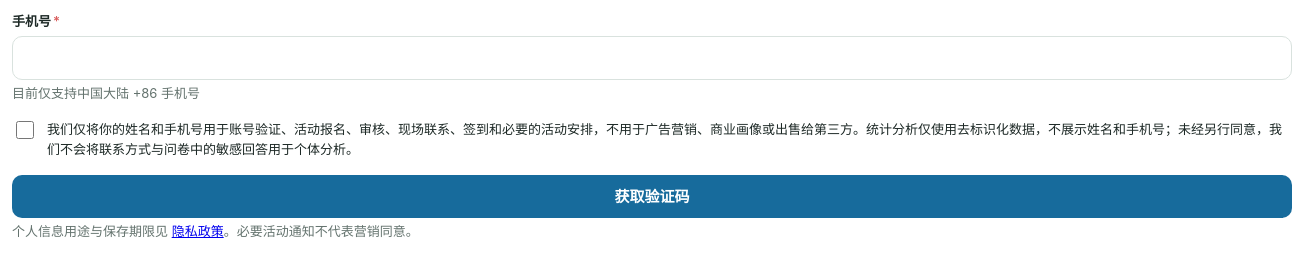
Scenario: PhoneAuthForm 手机号验证码入口 › 未同意隐私说明时不请求验证码
Step 1. Type "13812345678" into the field labelled "手机号*" → x=652, y=58, box [12, 36, 1292, 80]
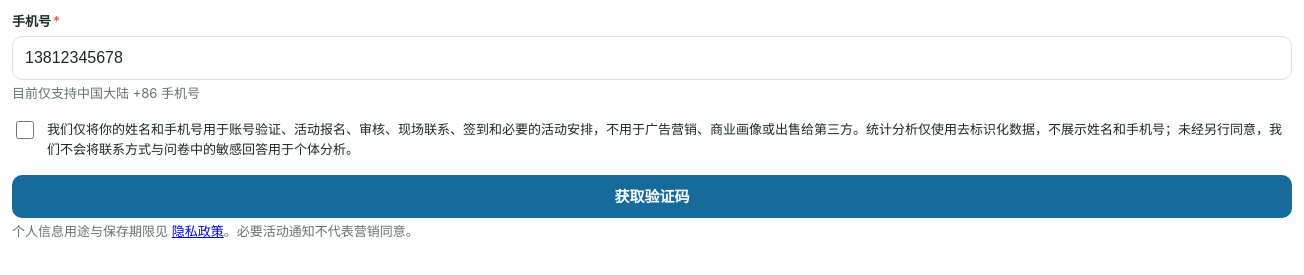
Step 2. Click the button "获取验证码" → x=652, y=197, box [12, 175, 1292, 218]
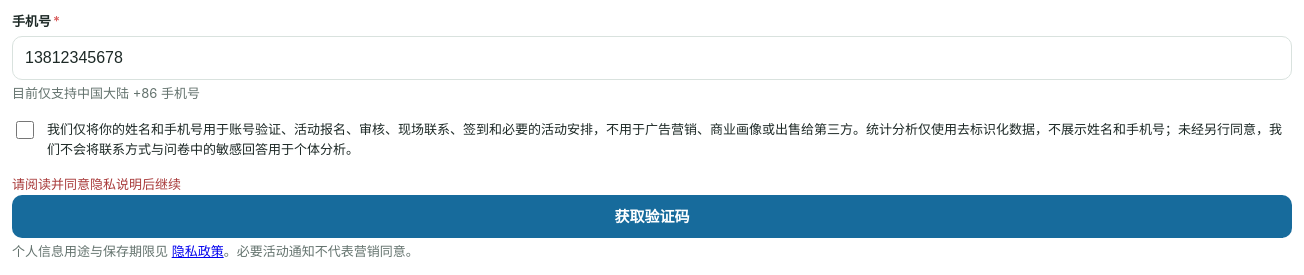
Check: the text "请阅读并同意隐私说明后继续" is shown, box [12, 176, 181, 192]
